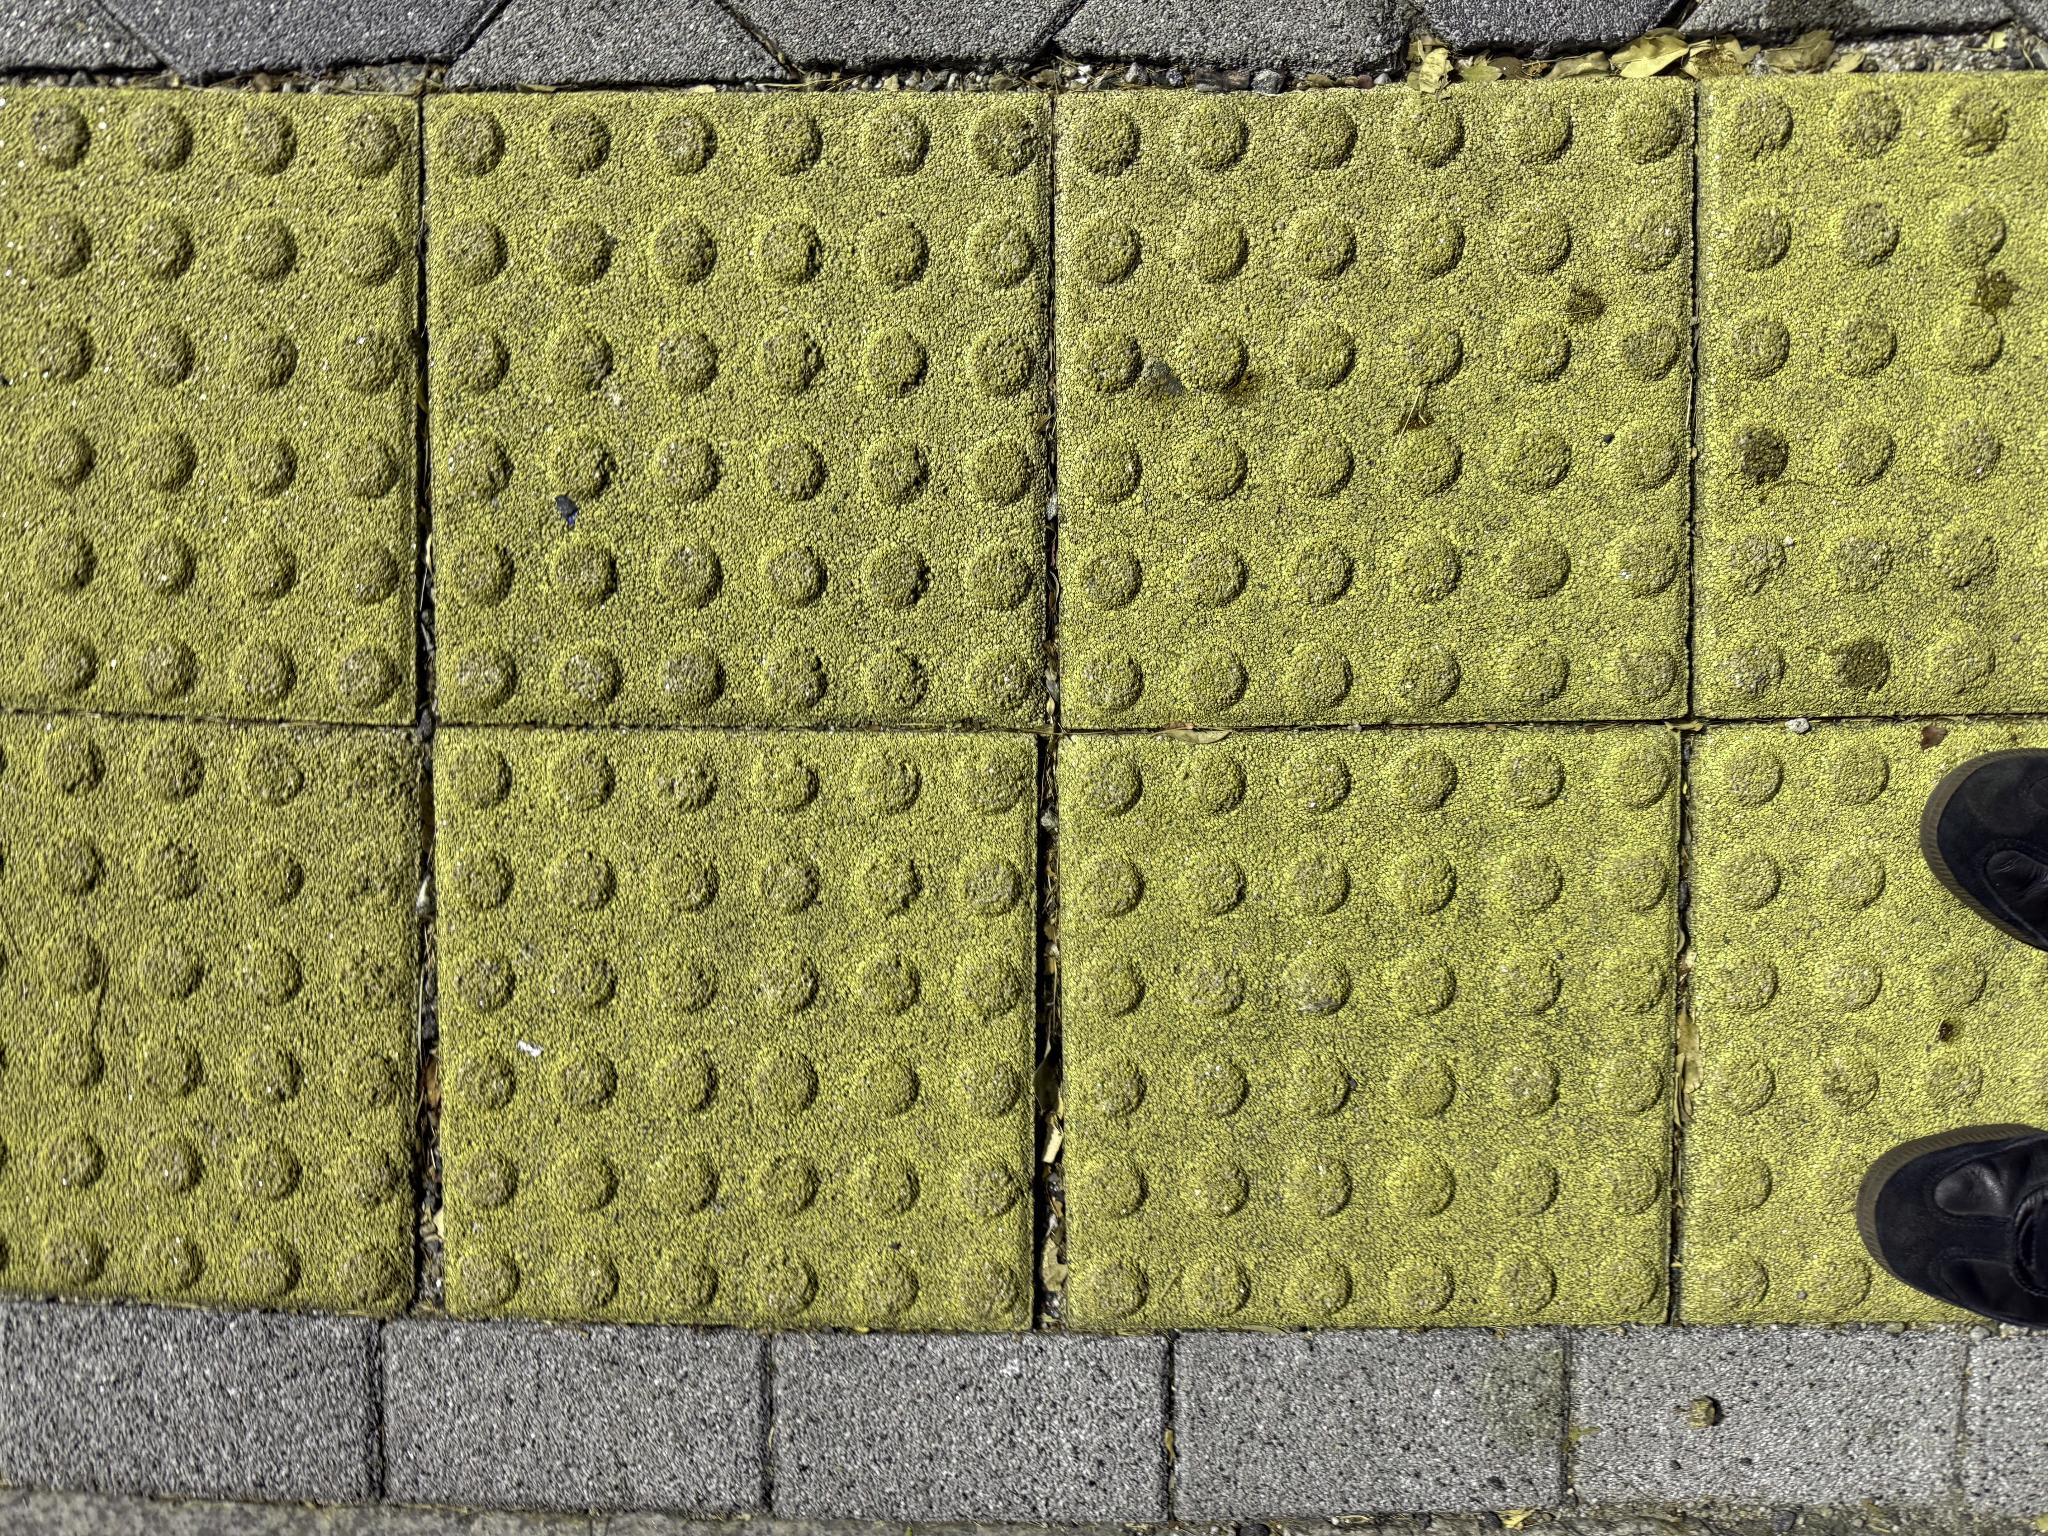Stop block normal: (221, 444, 800, 1028), (814, 1065, 1443, 1536)
